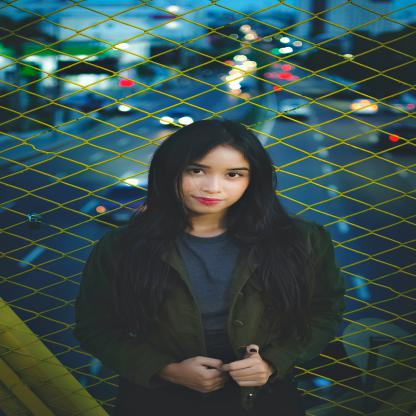Eye: (186, 166, 208, 176), (224, 170, 246, 180)
Mouth: (190, 194, 226, 206)
Nose: (202, 173, 224, 195)
